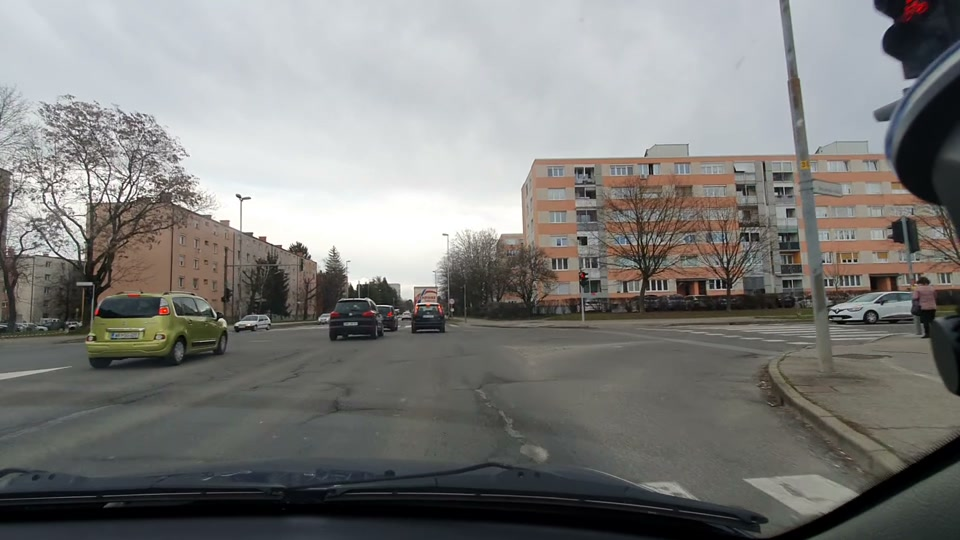vehicle_ign: (76, 280, 231, 379), (322, 287, 383, 351), (410, 297, 447, 338)
vehicle_r: (823, 281, 920, 323)
vehicle_s: (232, 309, 275, 336)
